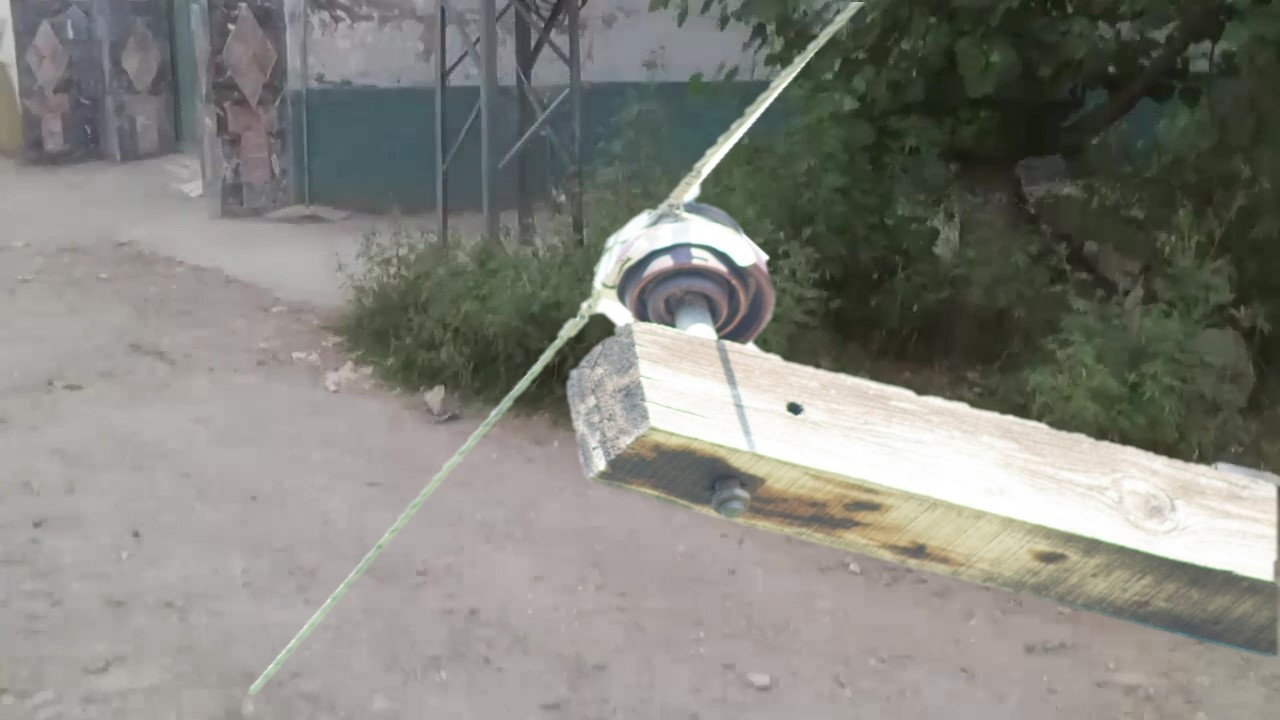defect_pin: (589, 190, 780, 343)
